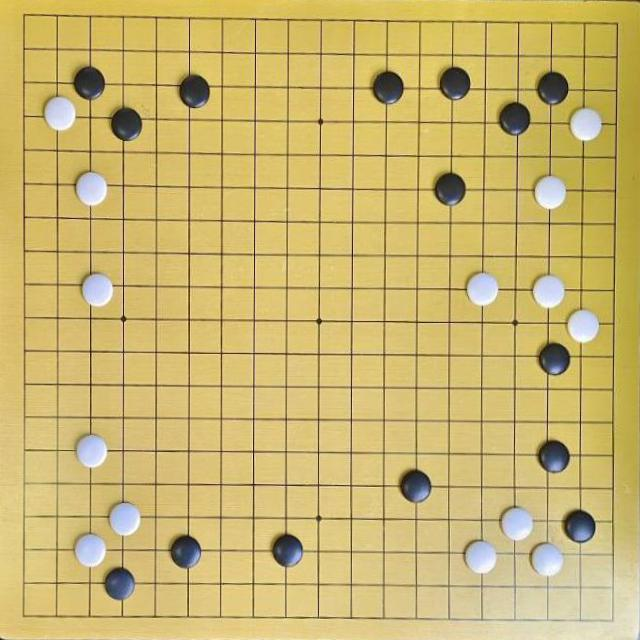blackstone: (169, 534, 203, 570), (536, 71, 570, 106), (538, 439, 571, 474), (499, 102, 532, 136), (439, 67, 472, 101), (73, 66, 106, 100), (434, 172, 466, 207), (179, 74, 211, 109), (110, 107, 142, 142), (272, 534, 304, 568), (564, 509, 596, 543), (104, 567, 136, 601), (400, 470, 432, 502), (539, 343, 570, 375), (374, 72, 404, 105)
whitestone: (43, 95, 77, 132), (531, 543, 565, 578), (108, 502, 142, 537), (532, 274, 566, 309), (75, 434, 108, 470), (501, 506, 534, 542), (534, 175, 567, 211), (75, 171, 108, 207), (464, 541, 498, 575), (466, 272, 500, 306), (74, 533, 107, 568), (81, 273, 114, 308), (569, 107, 602, 141), (568, 309, 600, 344)
